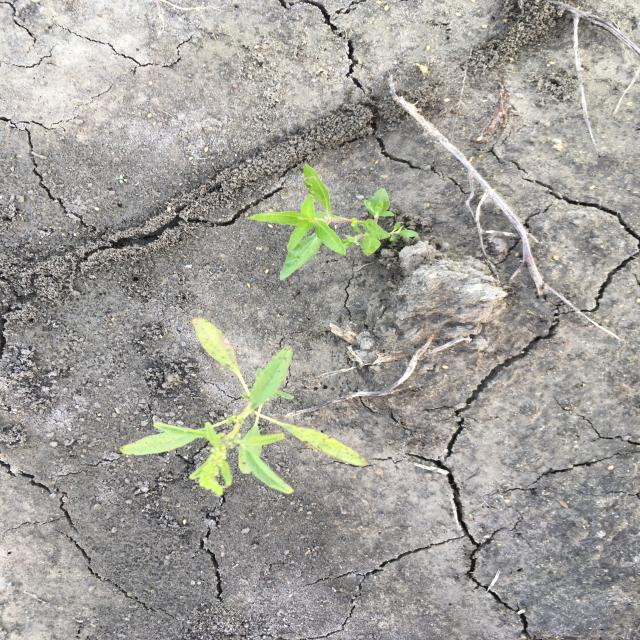Eclipta: (243, 162, 421, 282)
Waterhemp: (118, 316, 372, 498)
